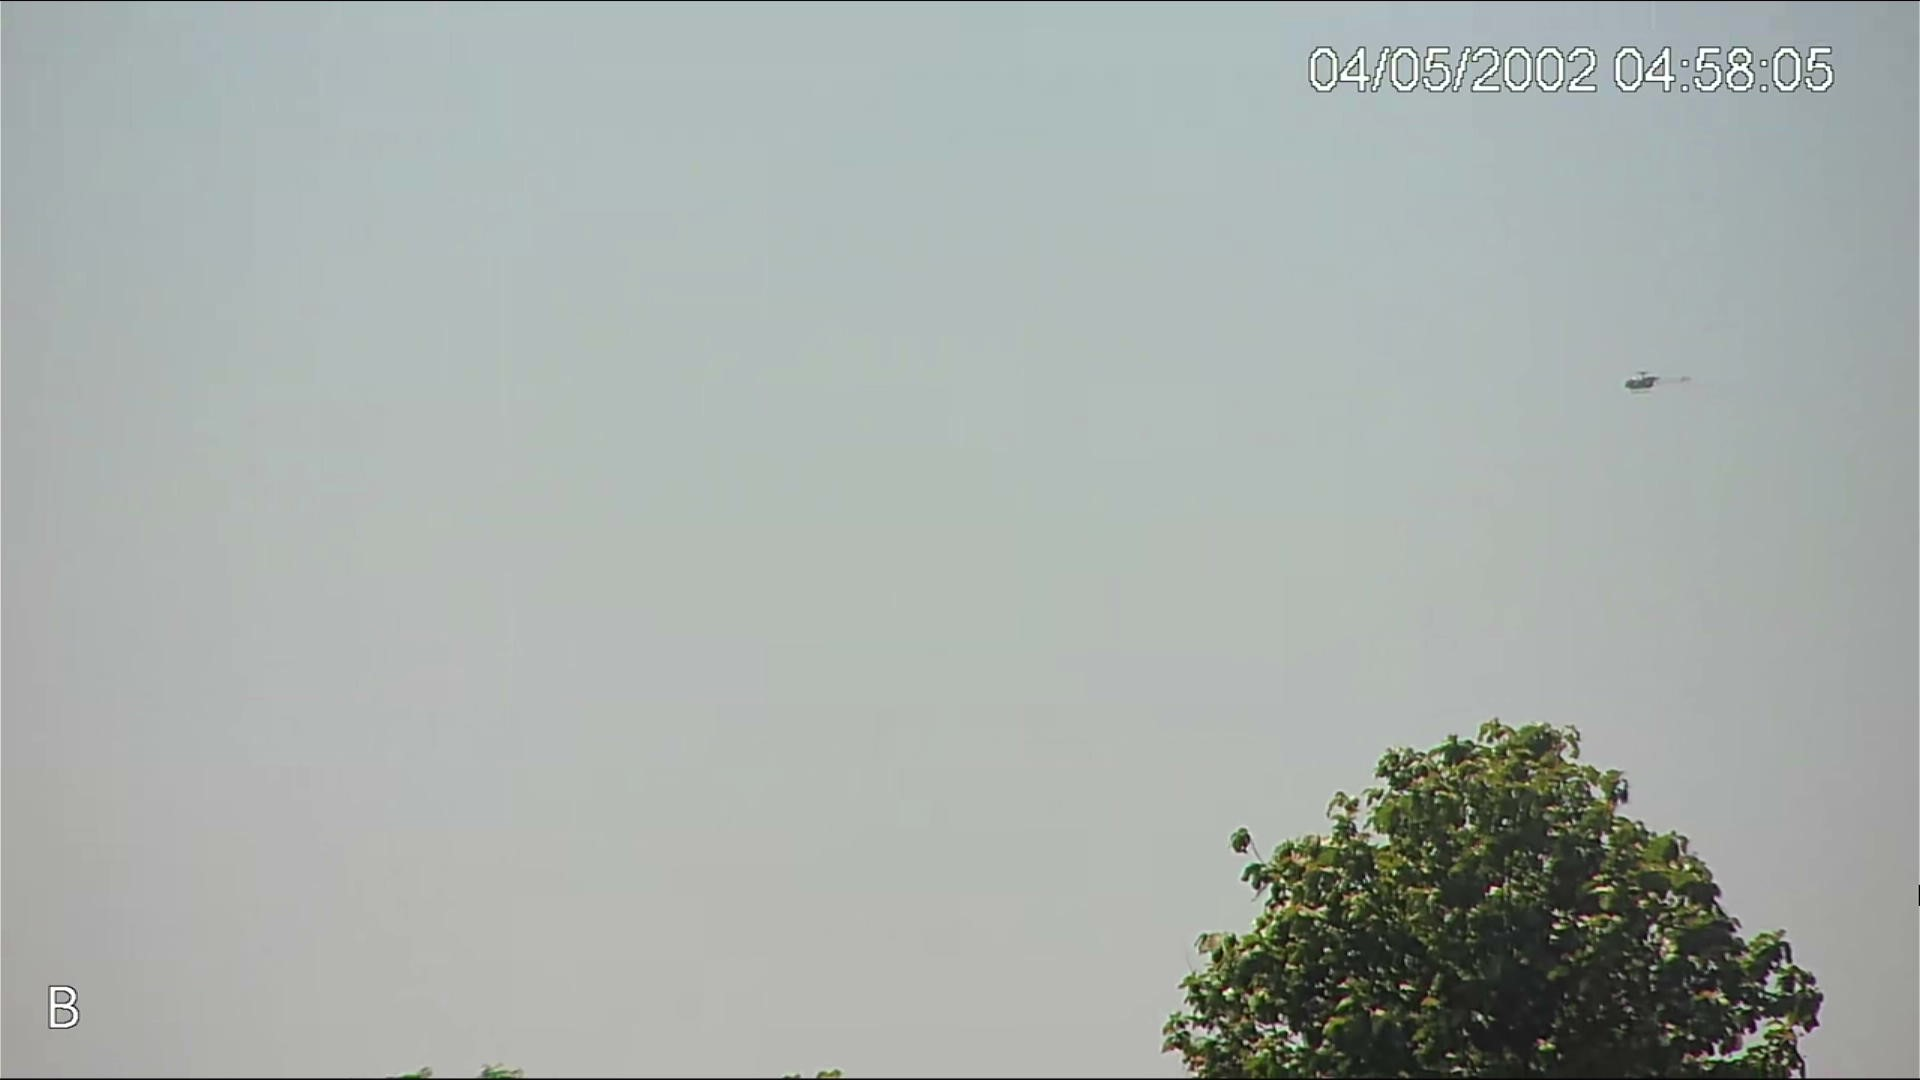SU_30: (1621, 371, 1658, 397)
